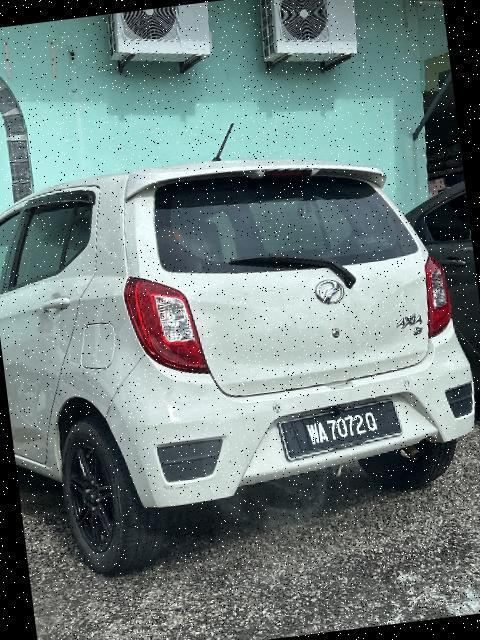License_Plate: (277, 400, 407, 464)
WA7072Q: (277, 400, 407, 464)
car: (1, 130, 480, 588)
